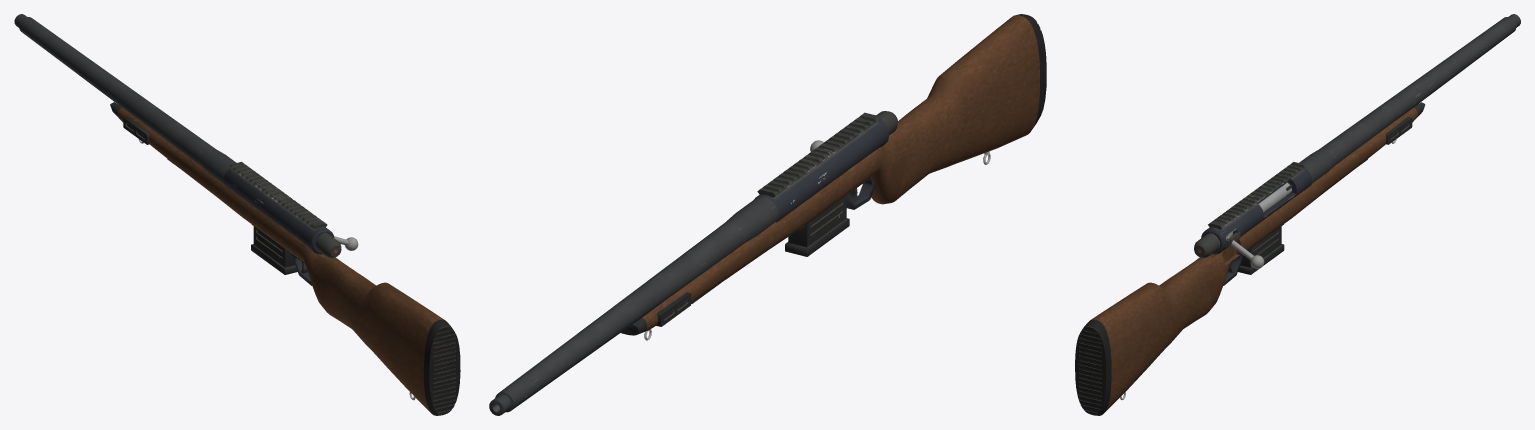
File: carabina_308_caca_leve.glb
3 renders of one model, left to right at view 1: azimuth 30°, elevation 25°; view 2: azimuth 150°, elevation 25°; view 3: azimuth 330°, elevation 25°, orthographic. The views are drawn at different scales.
Visible parts, largest first — view 1: carabina_308_caca_leve; view 2: carabina_308_caca_leve; view 3: carabina_308_caca_leve.
Part boxes in pixels (x1,y1,x2,y2): carabina_308_caca_leve: (14,14,460,415); carabina_308_caca_leve: (489,14,1046,415); carabina_308_caca_leve: (1075,14,1520,415).
Size of the model in its own units: 0.0832 by 0.1469 by 1.05.
1 material, 1 textured.
